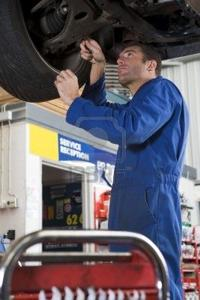person: (54, 37, 192, 300)
